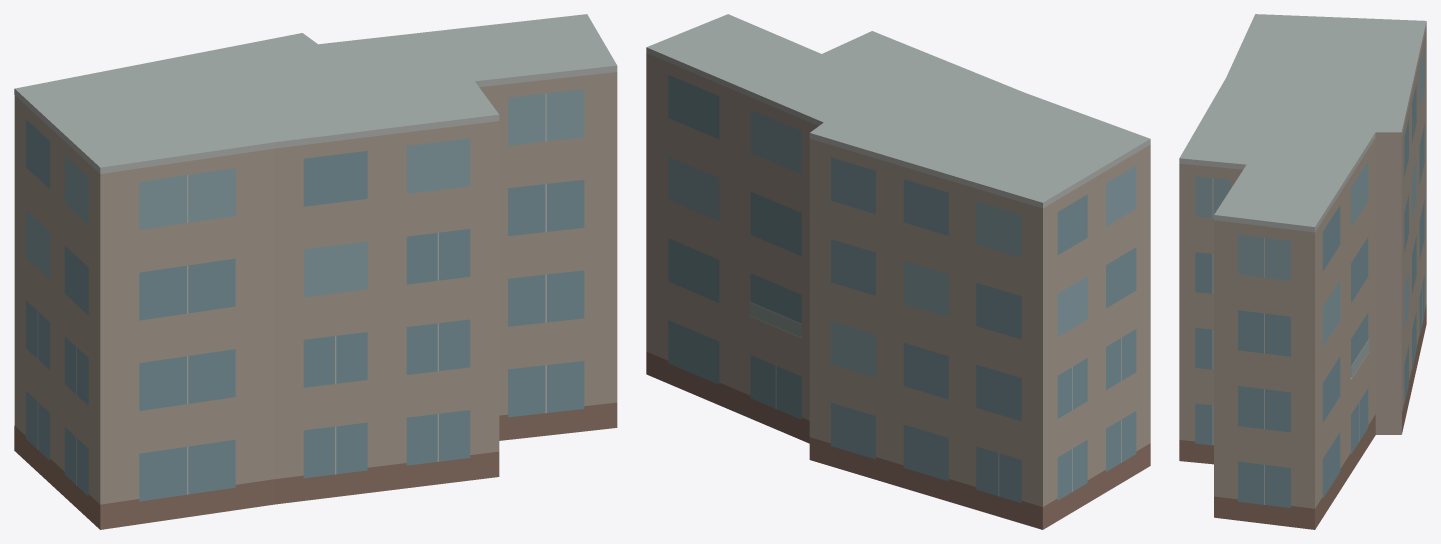
Rendered from survey-upis-32489603.glb.
The picture shows the model from 3 angles, left to right: view 1: azimuth 30°, elevation 25°; view 2: azimuth 150°, elevation 25°; view 3: azimuth 270°, elevation 25°; orthographic projection. The views are drawn at different scales.
Visible parts, largest first — view 1: survey-upis-32489603.tmp; view 2: survey-upis-32489603.tmp; view 3: survey-upis-32489603.tmp.
Boxes of the visible parts, x1,y1,x2,y2 form: survey-upis-32489603.tmp: (14, 14, 617, 529); survey-upis-32489603.tmp: (646, 14, 1150, 529); survey-upis-32489603.tmp: (1179, 14, 1426, 529).
Size of the model in its own units: 21 by 13.9 by 10.3.
